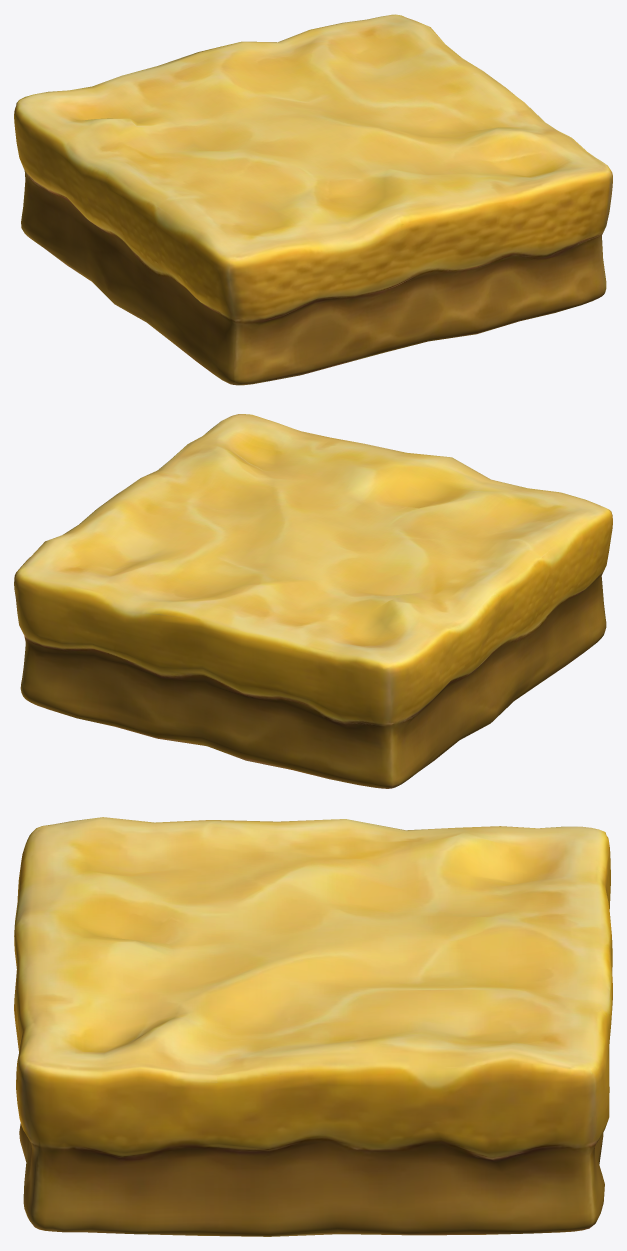
File: gndx_desert.glb
The picture shows the model from 3 angles, top to bottom: view 1: azimuth 30°, elevation 25°; view 2: azimuth 150°, elevation 25°; view 3: azimuth 270°, elevation 25°; orthographic projection. The views are drawn at different scales.
Visible parts, largest first — view 1: Mesh0; view 2: Mesh0; view 3: Mesh0.
Part boxes in pixels (<box>): Mesh0: <box>14,14,612,385</box>; Mesh0: <box>14,414,612,788</box>; Mesh0: <box>14,817,612,1236</box>.
Bounding box in the file's own units: 1.92 × 0.683 × 1.92.
Materials: 1 (1 with a texture image).
